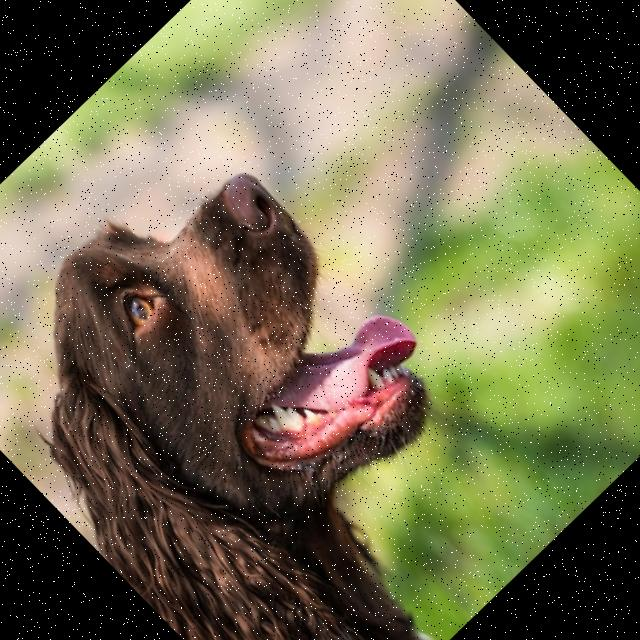Dog: (0, 123, 582, 640)
